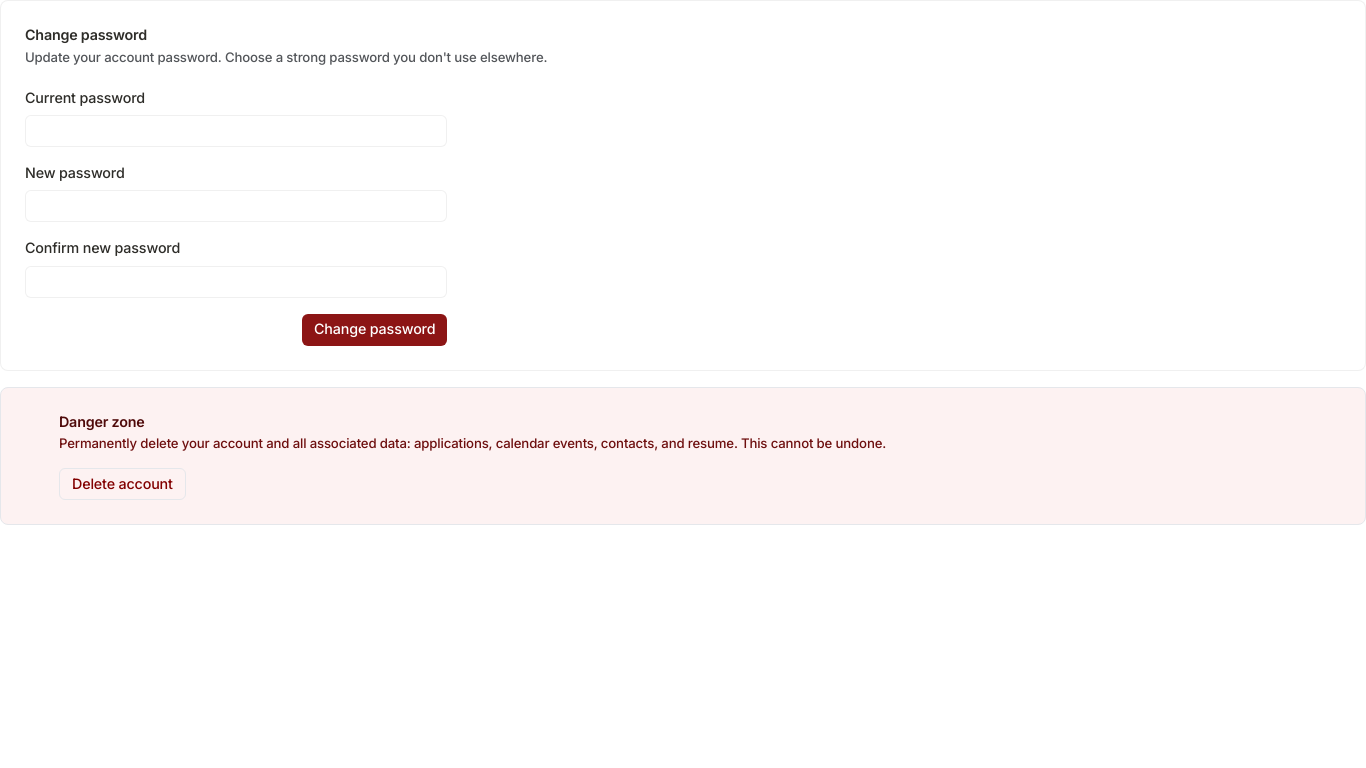
ChangePasswordCard — validation › should show error when current password is empty on submit
Click the button "Change password" at (375, 330), box [302,314,447,346]
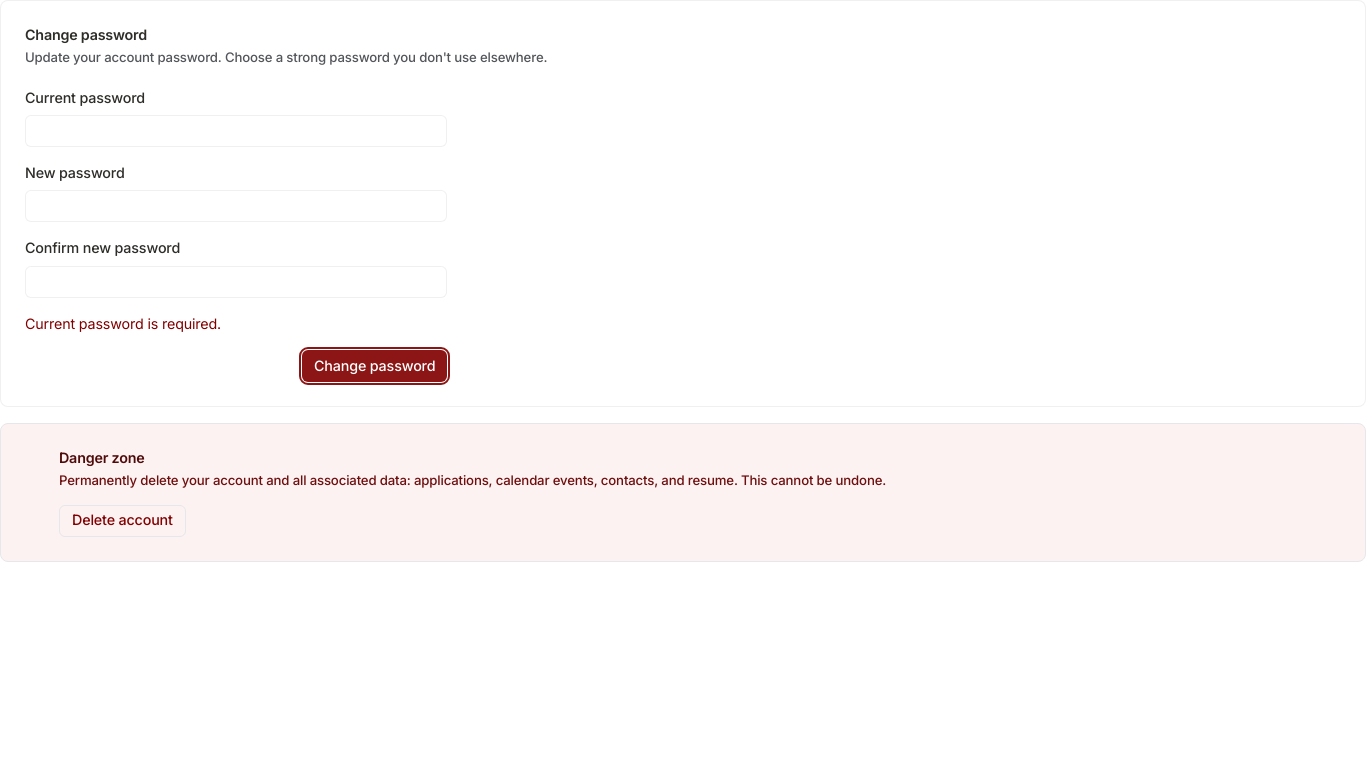
Expected: the message shows "Current password is required", [25,314,221,332]
